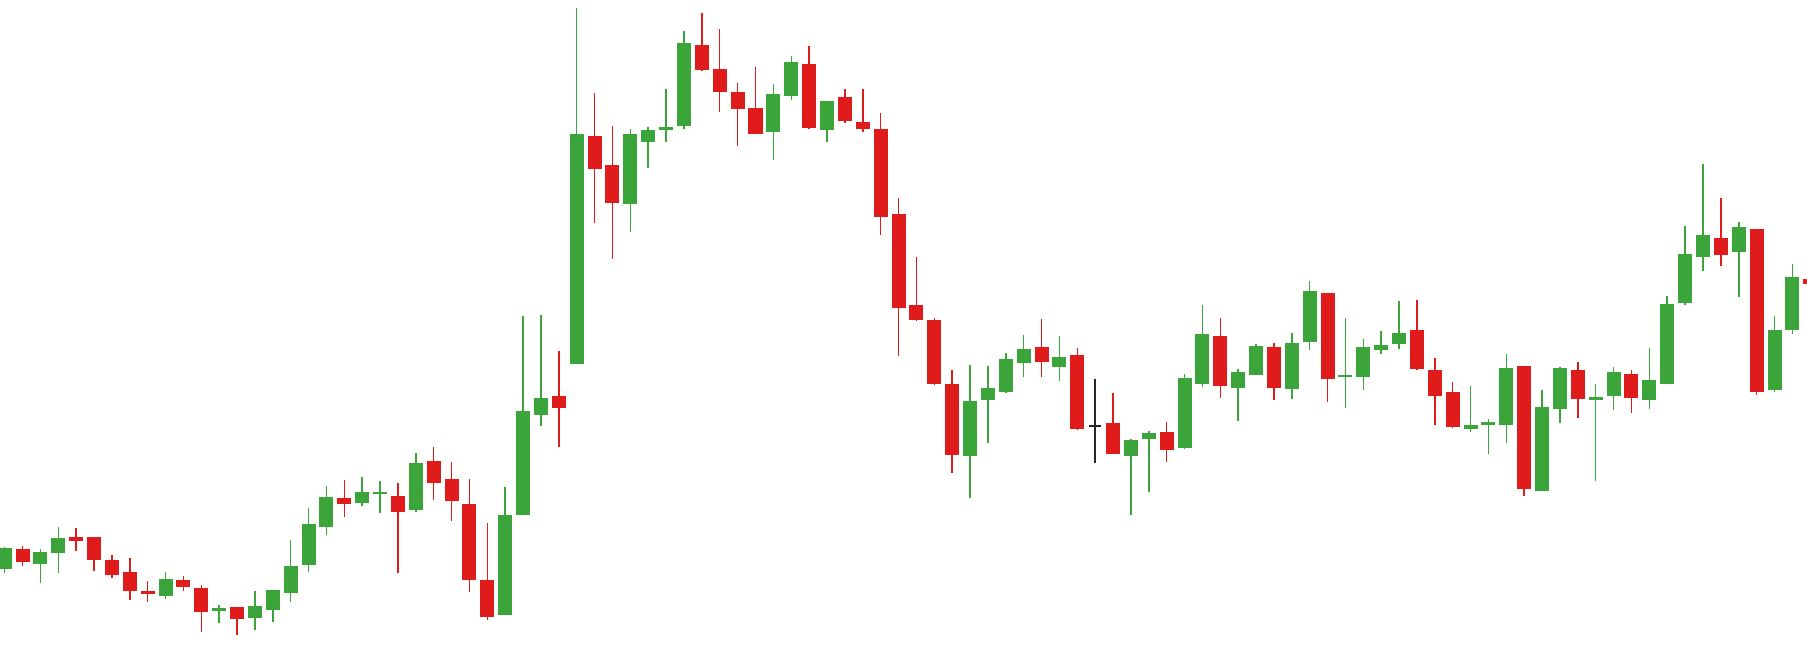buy: (937, 373, 1142, 525), (387, 482, 515, 621)
sell: (1190, 280, 1337, 363)
